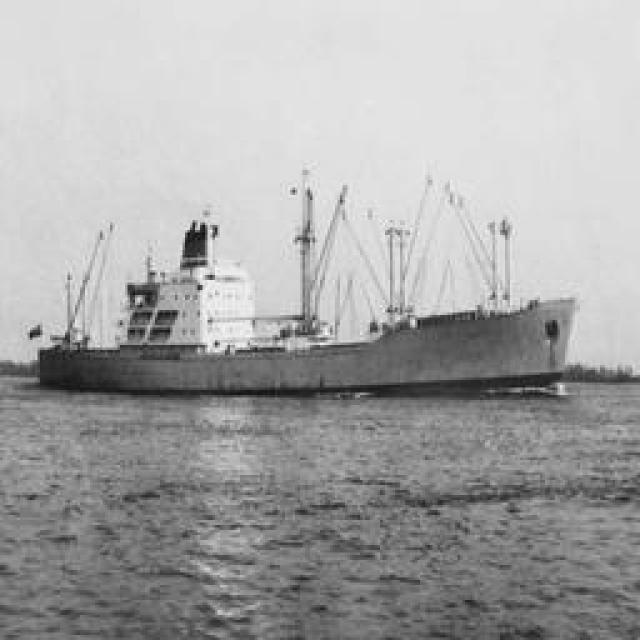Ship: (30, 176, 585, 394)
